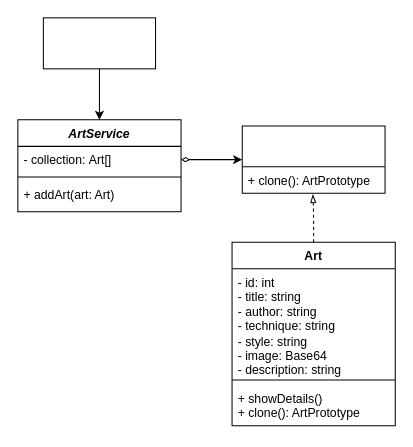
The diagram is 413 pixels wide and 447 high, and some of its shapes have lost their labels. Each missing label, with the box of its shape:
<<interface>> ArtPrototype: (241, 125, 385, 193)
Client: (42, 17, 156, 69)
